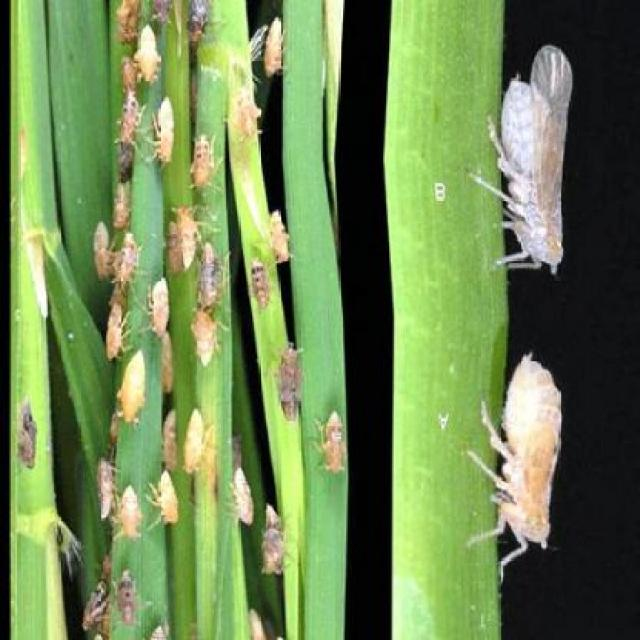brown-planthopper: (486, 43, 566, 275), (491, 343, 563, 554), (115, 346, 151, 426), (189, 306, 225, 371), (275, 343, 303, 423), (319, 408, 346, 480), (178, 404, 204, 474), (262, 501, 284, 577), (154, 468, 183, 524), (115, 480, 142, 540), (191, 129, 217, 191), (199, 243, 223, 309), (154, 100, 177, 168), (234, 83, 258, 146), (115, 83, 140, 143), (174, 202, 198, 264), (262, 15, 286, 76), (92, 220, 114, 286), (266, 205, 291, 263), (231, 463, 254, 525), (150, 275, 172, 337), (117, 568, 141, 624), (136, 23, 158, 83), (94, 457, 115, 518), (249, 257, 271, 315), (105, 306, 122, 356)
